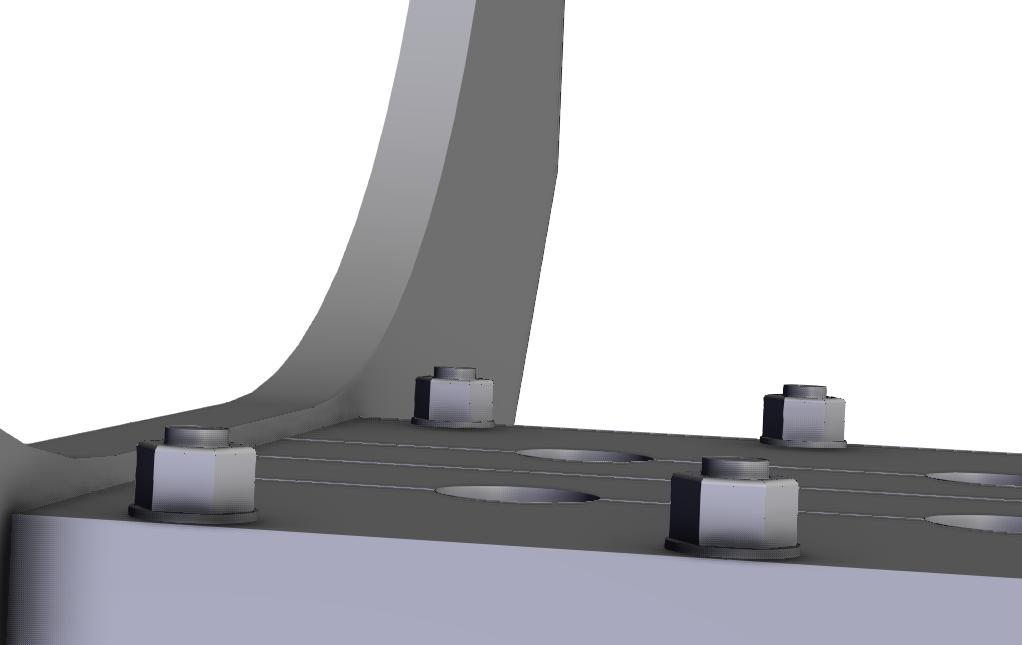bolt_c: (667, 468, 803, 550), (134, 430, 262, 517), (412, 368, 497, 429), (761, 386, 849, 442)
